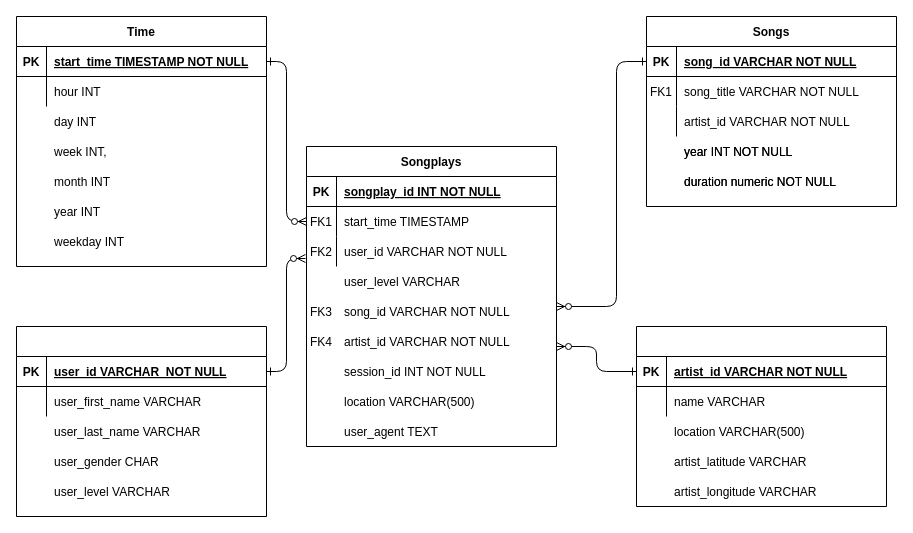
The diagram is 913 pixels wide and 533 high, and some of its shapes have lost their labels. Each missing label, with the box of its shape:
Artists: (636, 326, 886, 506)
Users: (16, 326, 266, 516)
